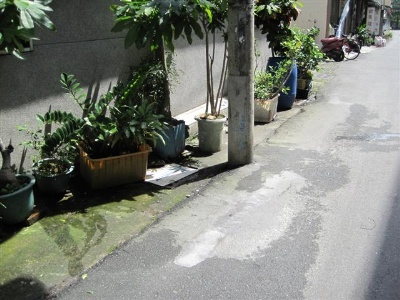box: (78, 140, 152, 190), (253, 92, 279, 121)
